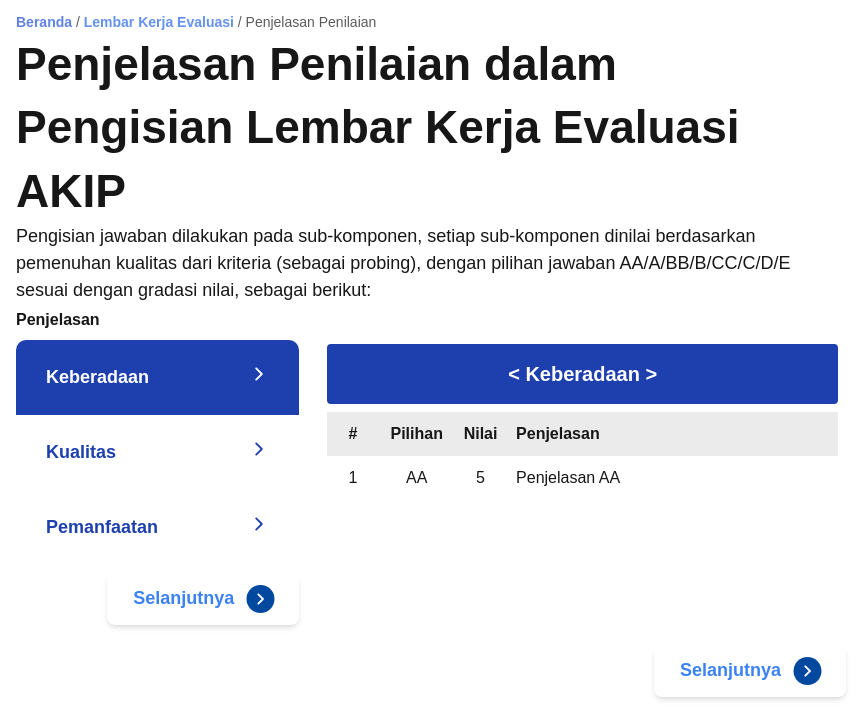
Test case: InstructionPage › changes active section on button click
The width and height of the screenshot is (864, 718).
Expected: the text "AA" is shown, [378,456,455,500]
// Click on Kualitas button
Click the button "Kualitas": (81, 452) [16,415,299,490]
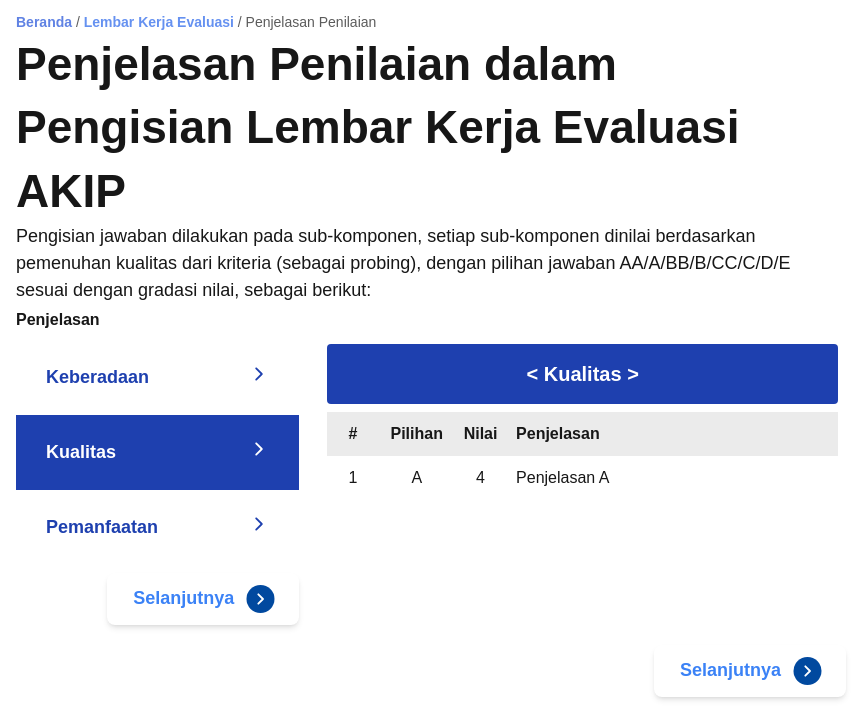
Expected: the text "A" is shown, [378,456,455,500]
Now the heading "< Kualitas >" is shown, box [327,344,838,404]
